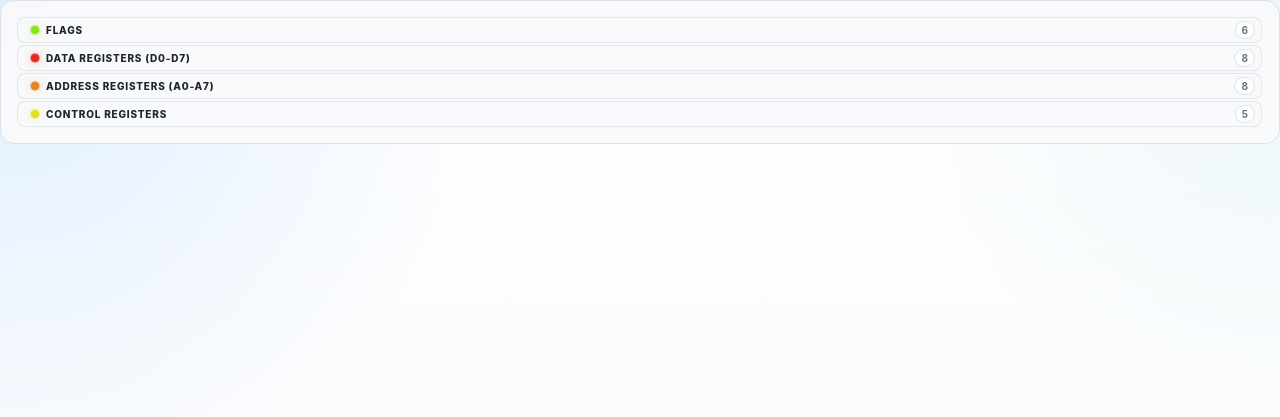
Test: Registers › lets the top full hex input be selected and edited directly
Click the button "Data Registers (D0-D7) 8" at (118, 58), box [17,45,1262,71]
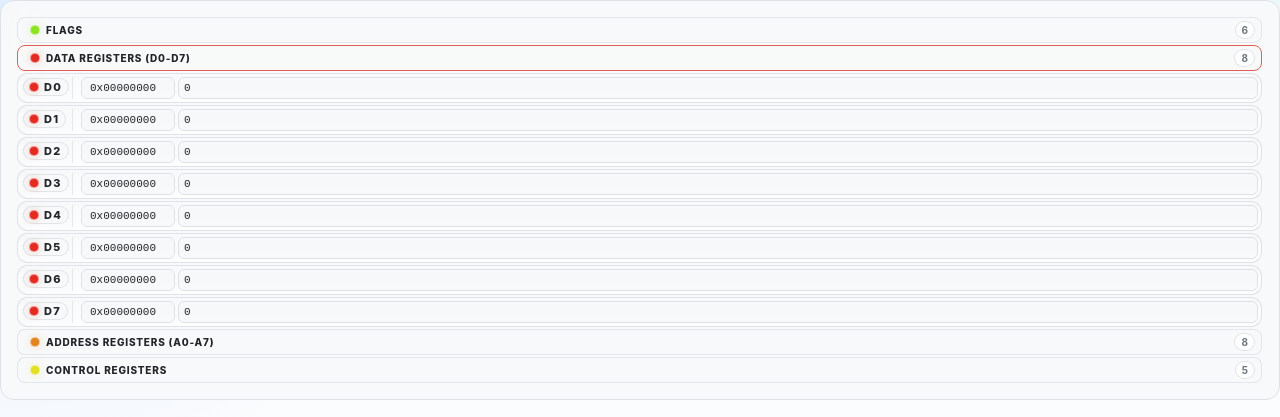
Focus the field named "D0 full hex value" at (128, 88), box [81,77,175,99]
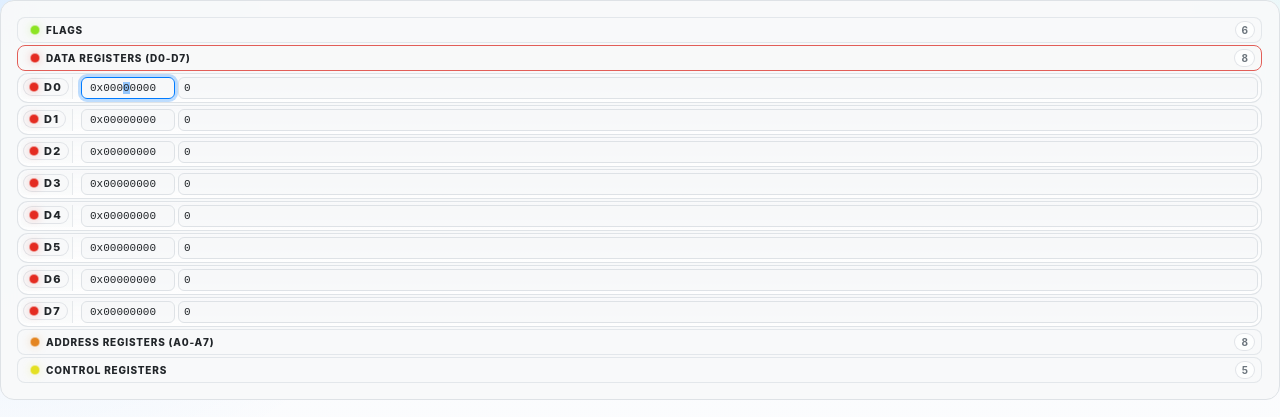
Press A in the field named "D0 full hex value", box [81,77,175,99]
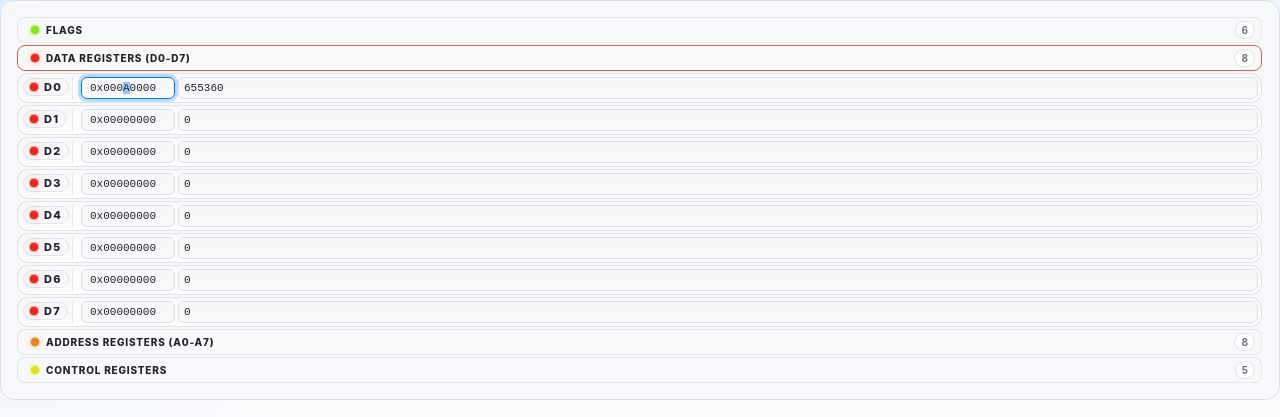
Check: the field named "D0 full hex value" holds "0x000A0000", box [81,77,175,99]
